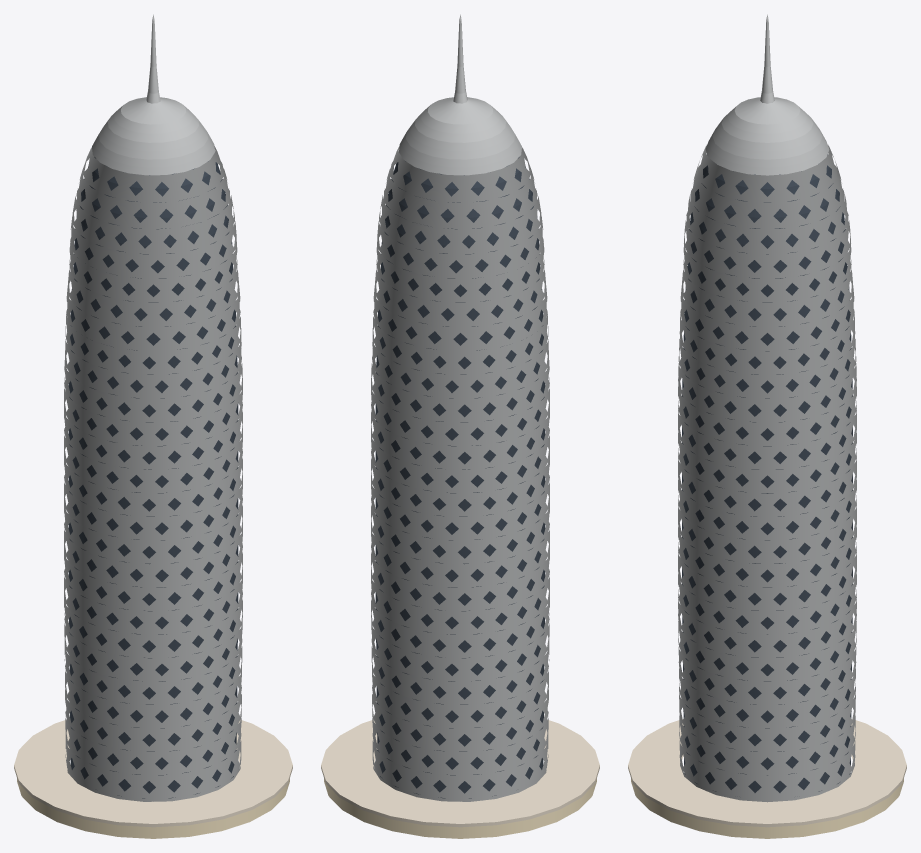
The model's file is doha-tower.glb.
The picture shows the model from 3 angles, left to right: view 1: azimuth 30°, elevation 25°; view 2: azimuth 150°, elevation 25°; view 3: azimuth 270°, elevation 25°; orthographic projection.
Visible parts, largest first — view 1: Doha Tower; view 2: Doha Tower; view 3: Doha Tower.
Part boxes in pixels (x1,y1,x2,y2): Doha Tower: (14,14,292,838); Doha Tower: (321,14,599,838); Doha Tower: (628,14,906,838).
Size of the model in its own units: 78.4 by 238 by 78.4.
